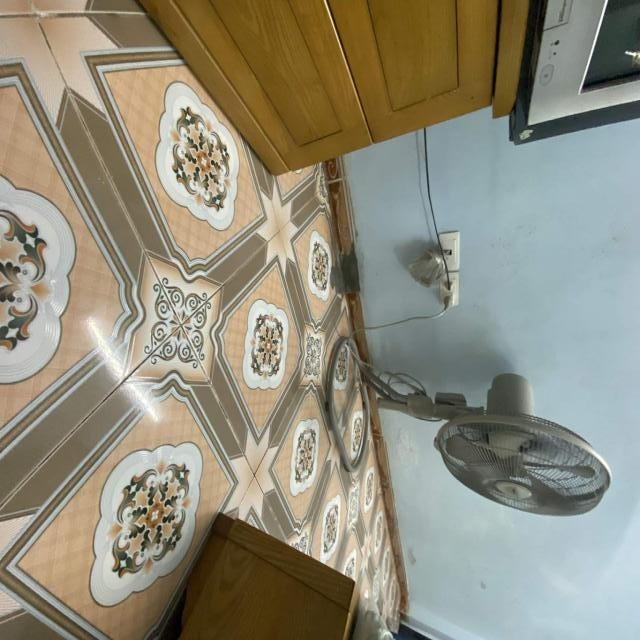outlet: (438, 230, 460, 270), (440, 272, 460, 307)
